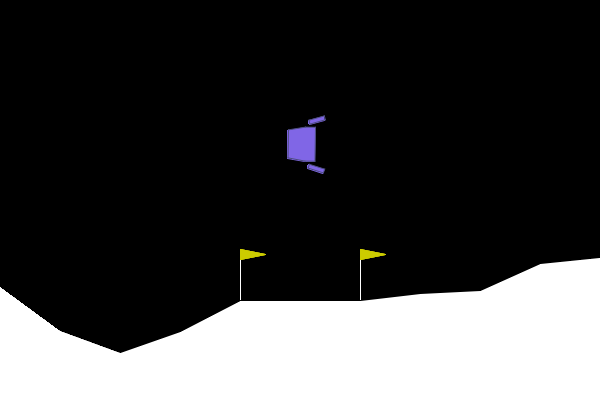lander: (285, 114, 326, 175)
